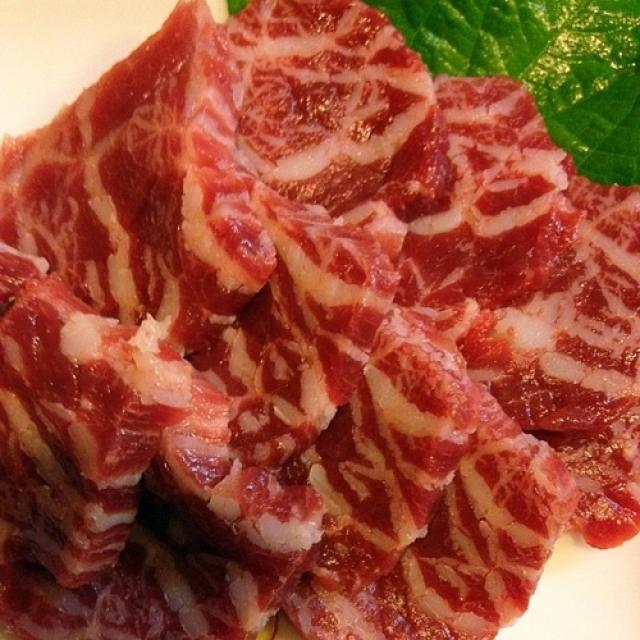刺身生食: (4, 2, 626, 626)
